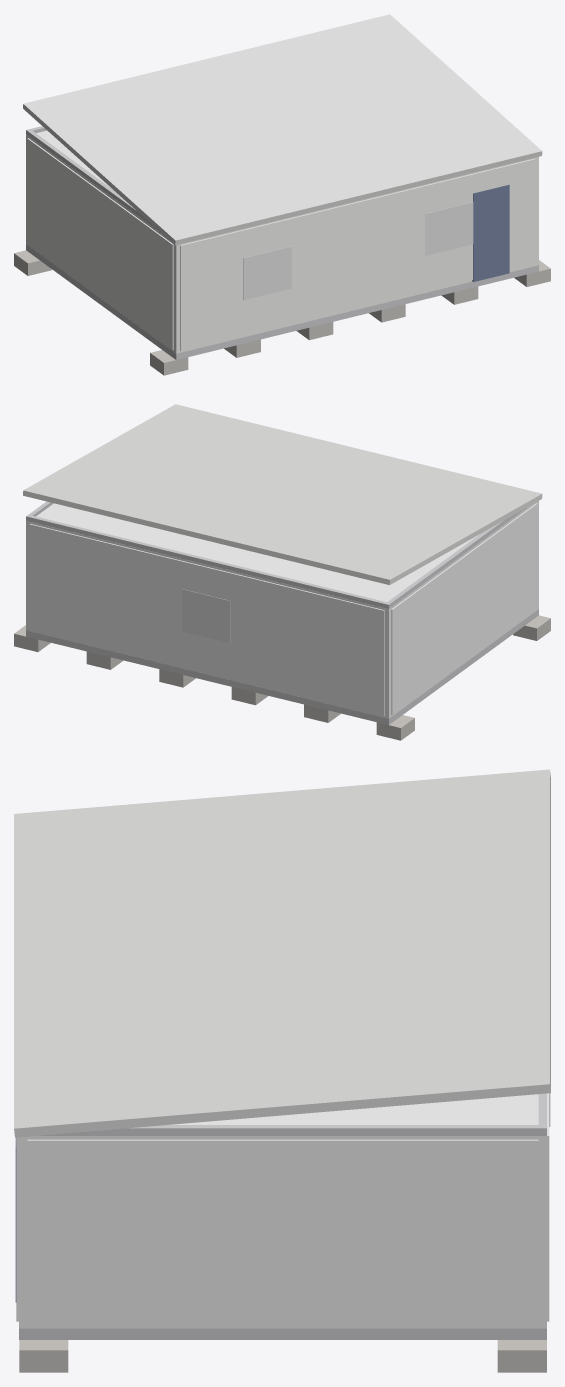
The model's file is Studio-30-SlopingRoof-LOD2.glb.
3 views of the same model, one above another, from view 1: azimuth 30°, elevation 25°; view 2: azimuth 150°, elevation 25°; view 3: azimuth 270°, elevation 25° (orthographic). The views are drawn at different scales.
Visible parts, largest first — view 1: RoofSlopingUpgrade, ExteriorPanelsStandard, WindowsStandard, BaseFrame, FoundationBlocks, ExteriorShell, EntryDoor, TopFrame, InteriorCeiling; view 2: ExteriorPanelsStandard, RoofSlopingUpgrade, InteriorCeiling, ExteriorShell, TopFrame, BaseFrame, FoundationBlocks, WindowsStandard; view 3: RoofSlopingUpgrade, ExteriorPanelsStandard, ExteriorShell, BaseFrame, InteriorCeiling, TopFrame, FoundationBlocks.
Boxes of the visible parts, left/top/right/bottom form: RoofSlopingUpgrade: left=23, top=14, right=542, bottom=245; ExteriorPanelsStandard: left=27, top=138, right=535, bottom=350; WindowsStandard: left=243, top=202, right=473, bottom=300; BaseFrame: left=26, top=244, right=538, bottom=359; FoundationBlocks: left=14, top=250, right=550, bottom=375; ExteriorShell: left=26, top=134, right=538, bottom=353; EntryDoor: left=472, top=184, right=509, bottom=281; TopFrame: left=26, top=126, right=161, bottom=233; InteriorCeiling: left=36, top=130, right=112, bottom=189; ExteriorPanelsStandard: left=29, top=503, right=537, bottom=715; RoofSlopingUpgrade: left=23, top=404, right=542, bottom=584; InteriorCeiling: left=36, top=503, right=479, bottom=601; ExteriorShell: left=26, top=501, right=538, bottom=718; TopFrame: left=26, top=501, right=528, bottom=608; BaseFrame: left=26, top=609, right=538, bottom=724; FoundationBlocks: left=14, top=615, right=550, bottom=740; WindowsStandard: left=182, top=589, right=230, bottom=643; RoofSlopingUpgrade: left=14, top=769, right=550, bottom=1137; ExteriorPanelsStandard: left=16, top=1093, right=549, bottom=1325; ExteriorShell: left=19, top=1136, right=546, bottom=1328; BaseFrame: left=19, top=1328, right=546, bottom=1339; InteriorCeiling: left=169, top=1094, right=538, bottom=1124; TopFrame: left=37, top=1093, right=546, bottom=1135; FoundationBlocks: left=19, top=1340, right=546, bottom=1372.
Bounding box in the file's own units: 9.6 × 3.77 × 6.56.
